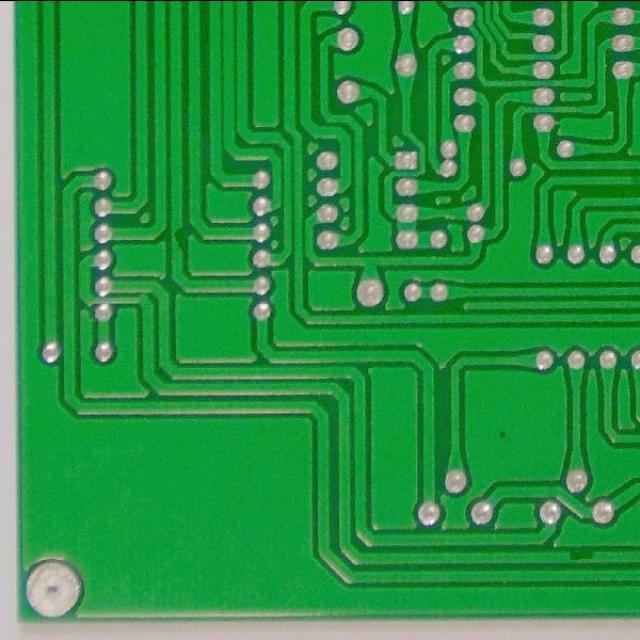mouse_bite: (563, 548, 604, 566), (170, 221, 186, 259)
